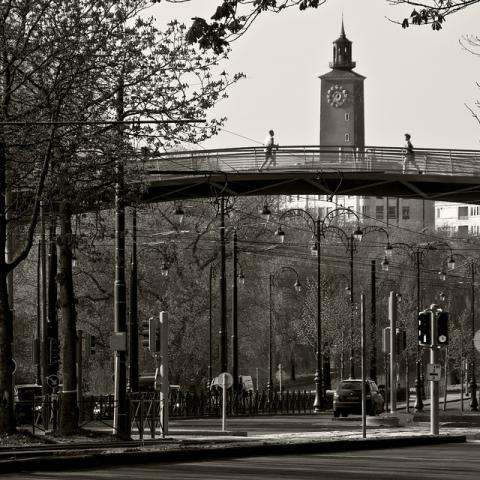car: (332, 379, 385, 418)
